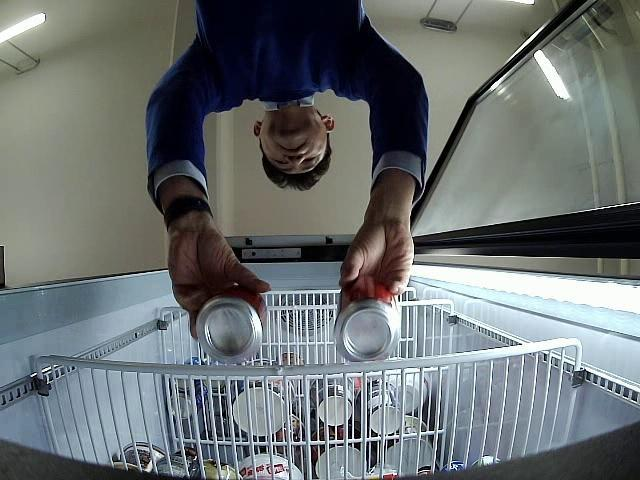11_cocaColaZero: (334, 274, 402, 363), (196, 285, 268, 364)
